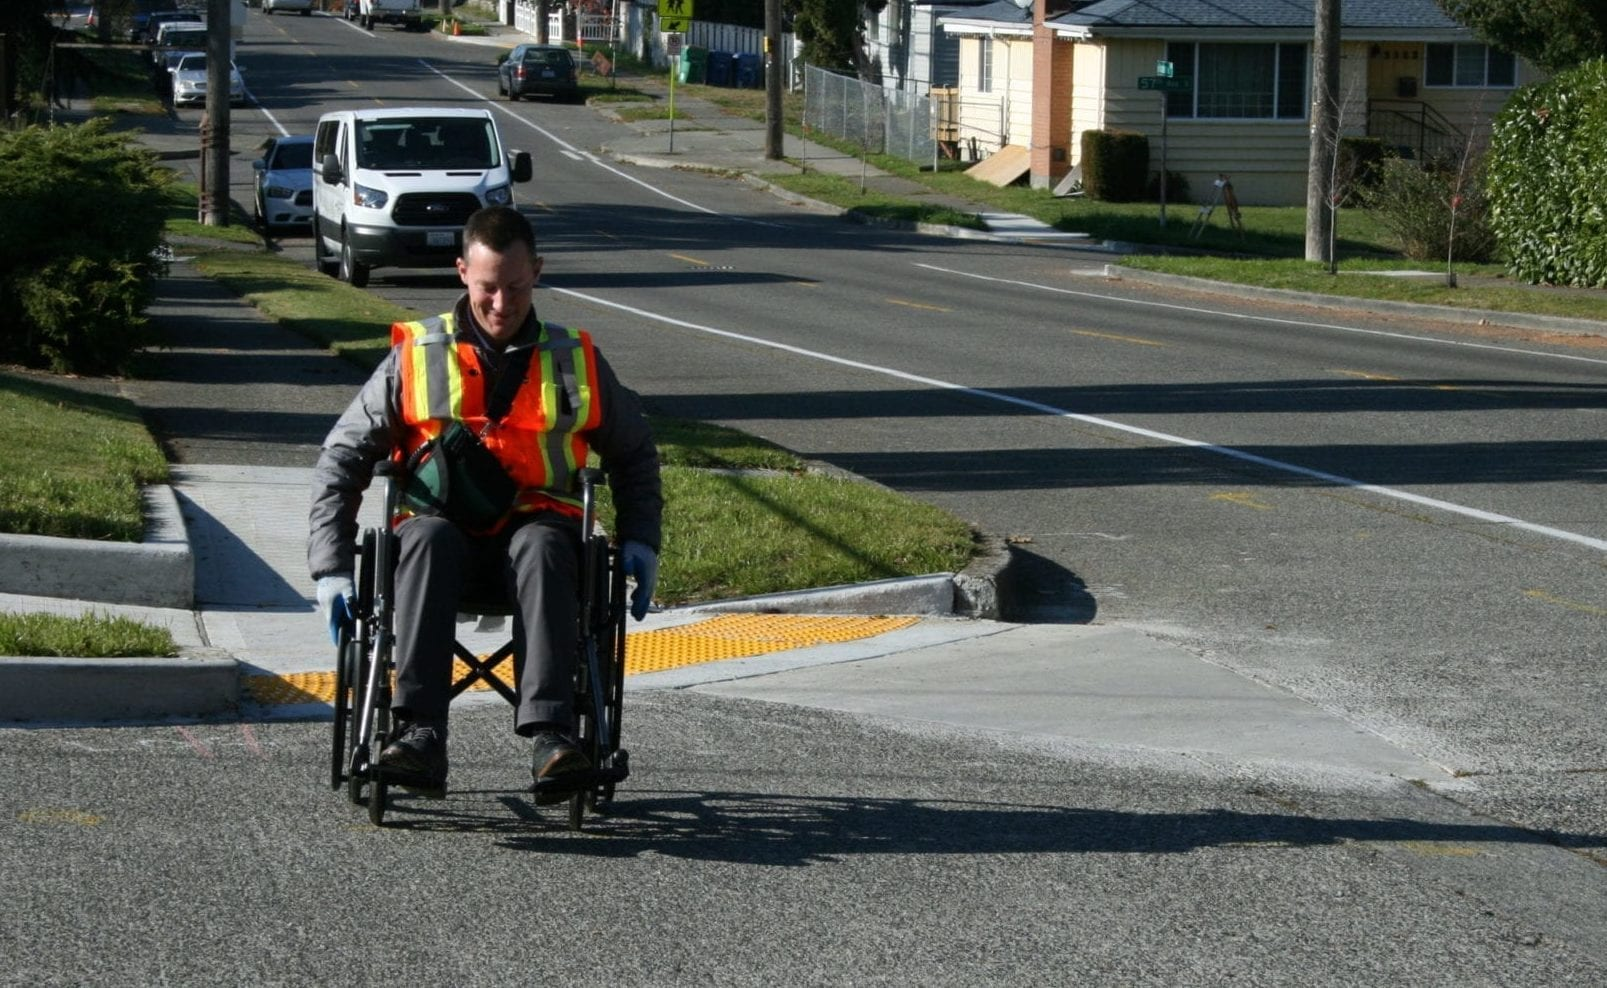person: (311, 270, 664, 780)
